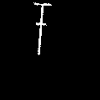double_crochet: (35, 3, 50, 53)
